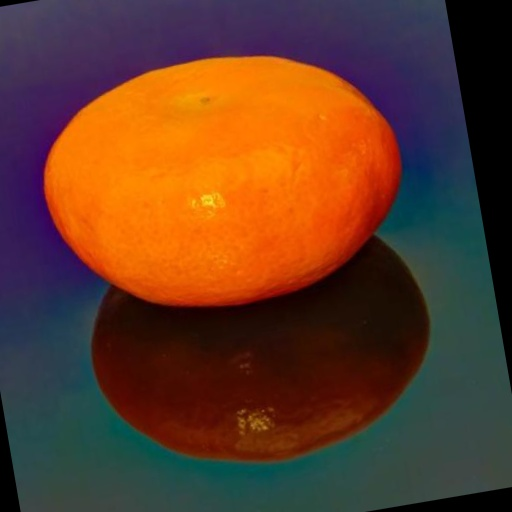fruit: (44, 57, 400, 306), (92, 238, 428, 462)
